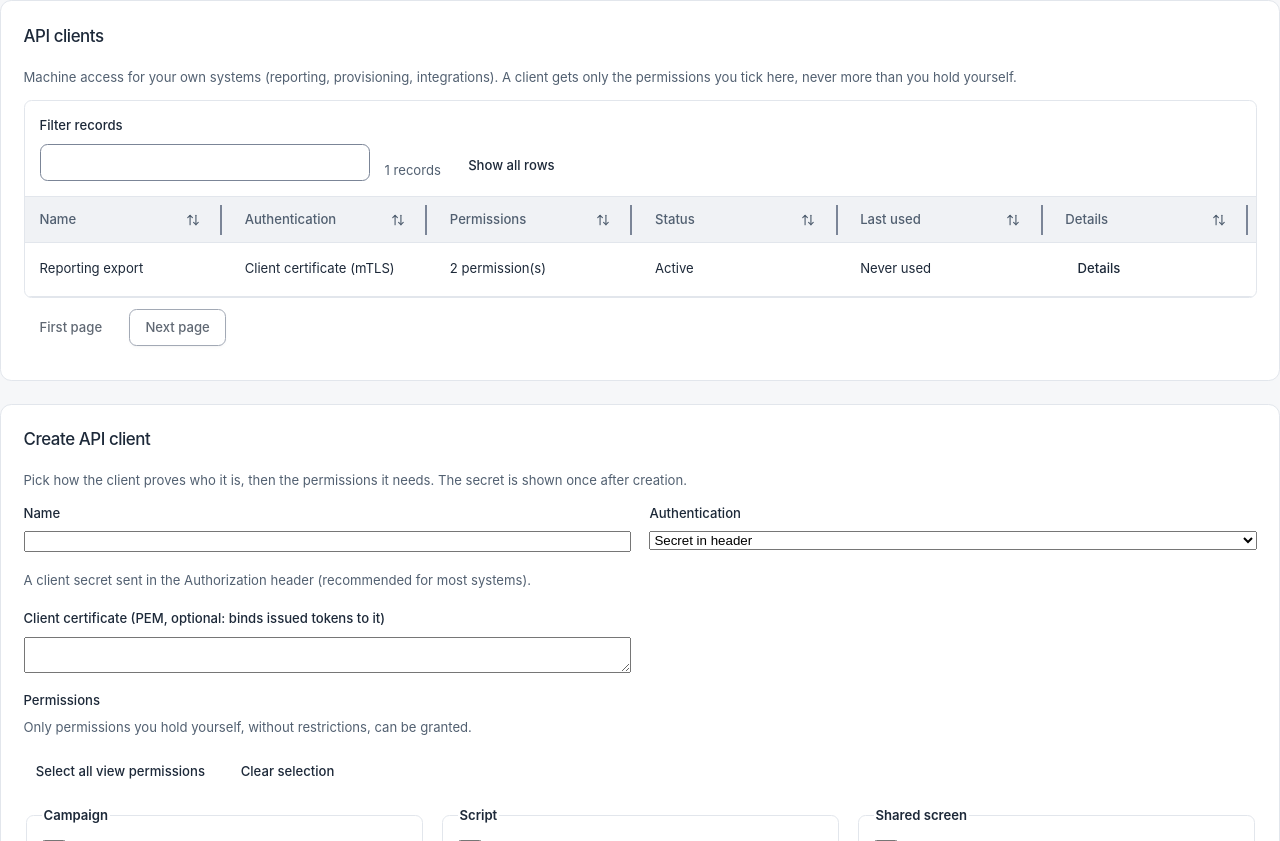
Scenario: offers no rotation for certificate clients
Click the button "Show all rows".
click(511, 166)  # box [456,151,567,181]
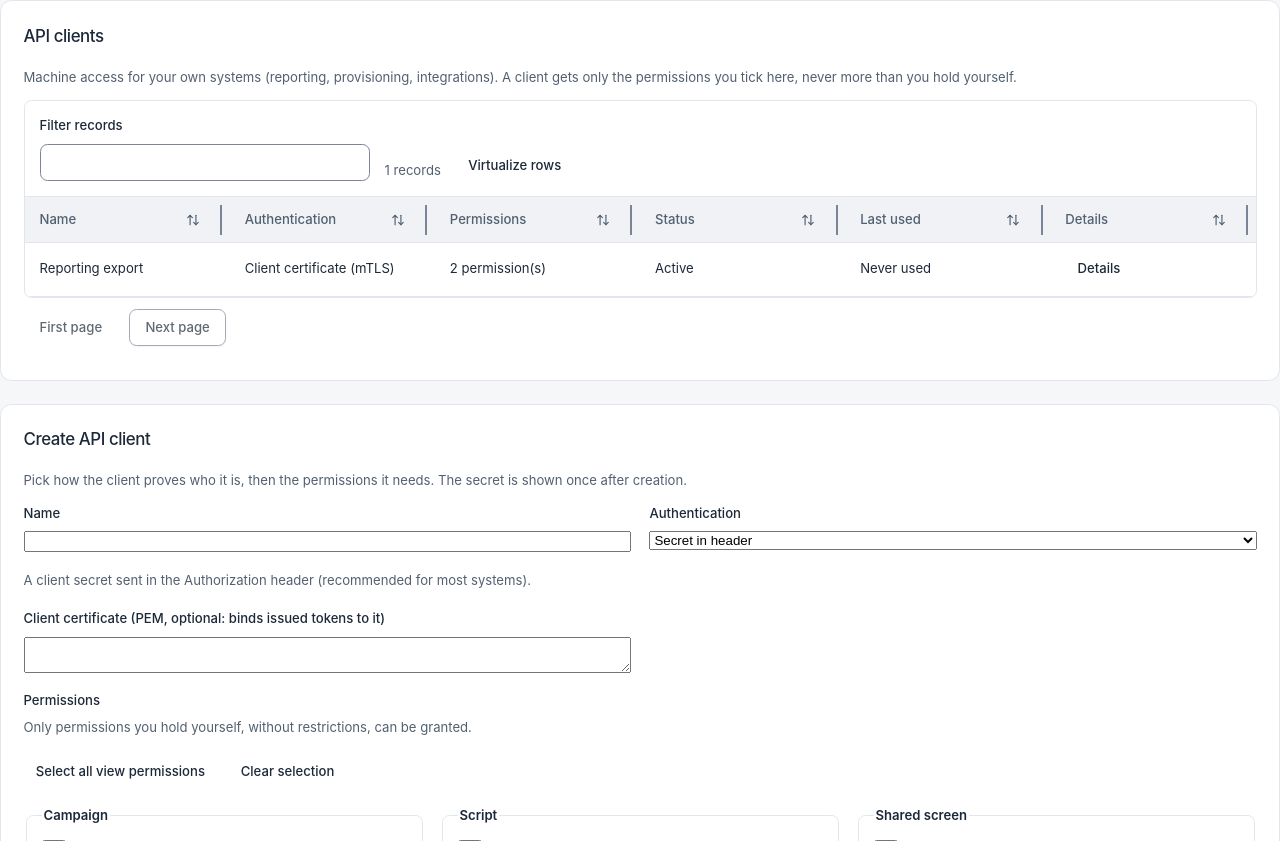
Click the button "Details" in the row of "Reporting export".
click(1099, 269)  # box [1065,254,1133,284]
(page scrolled)
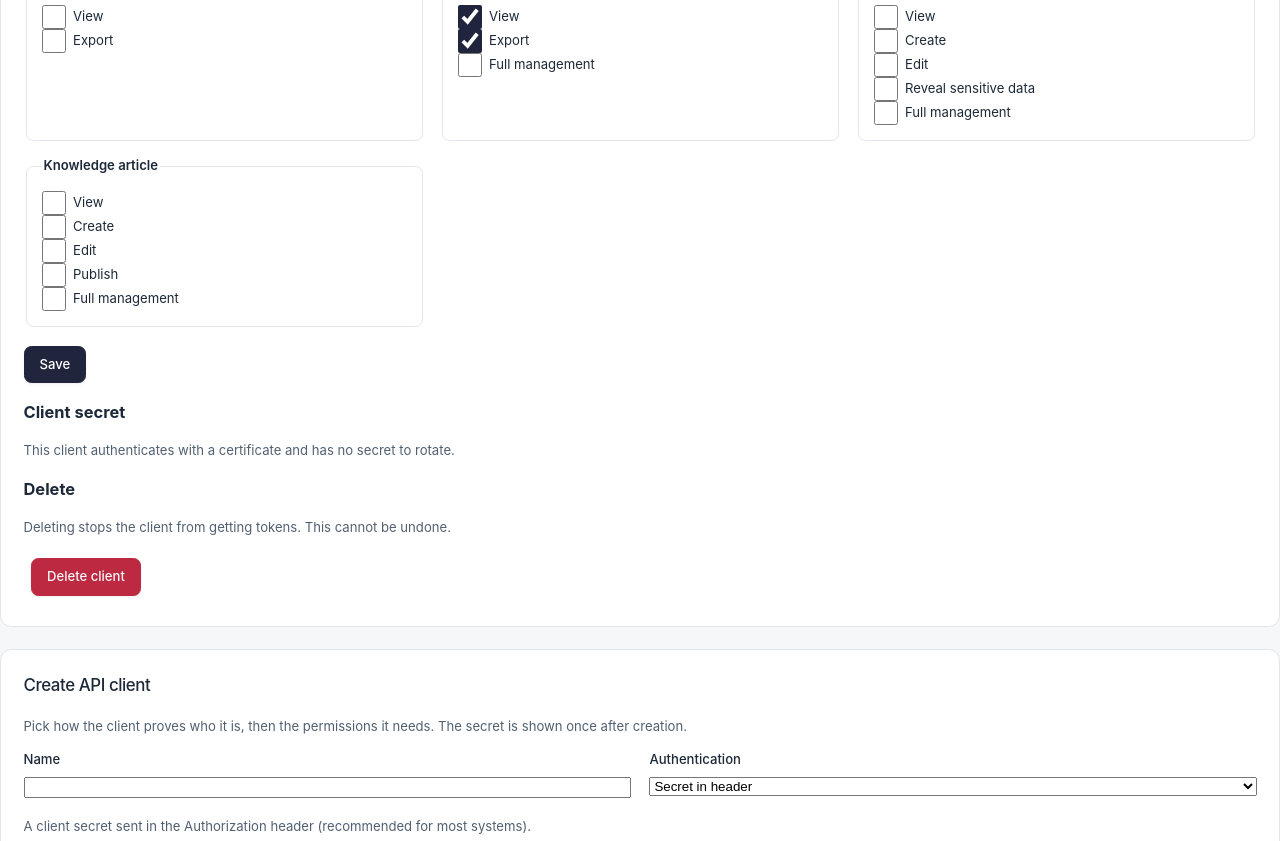
Result: the text "This client authenticates with a certificate and has no secret to rotate." is shown at [24,442,455,458]
